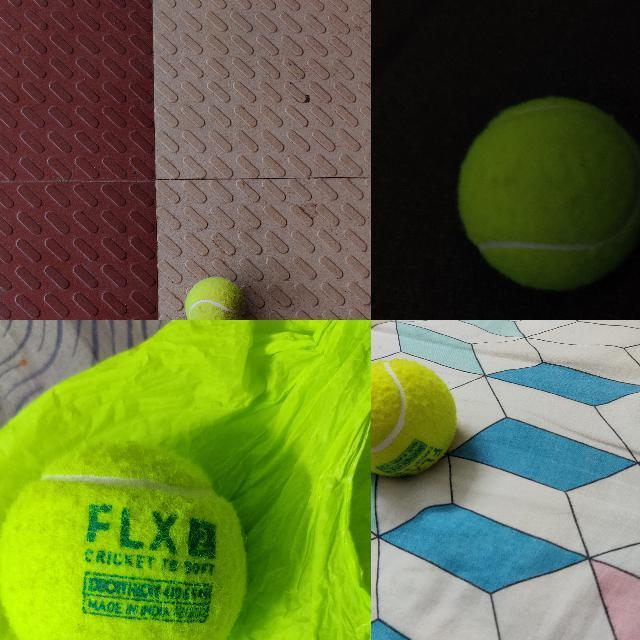tennis-ball: (0, 440, 249, 639), (456, 96, 639, 290), (371, 359, 458, 477), (185, 277, 246, 319)
